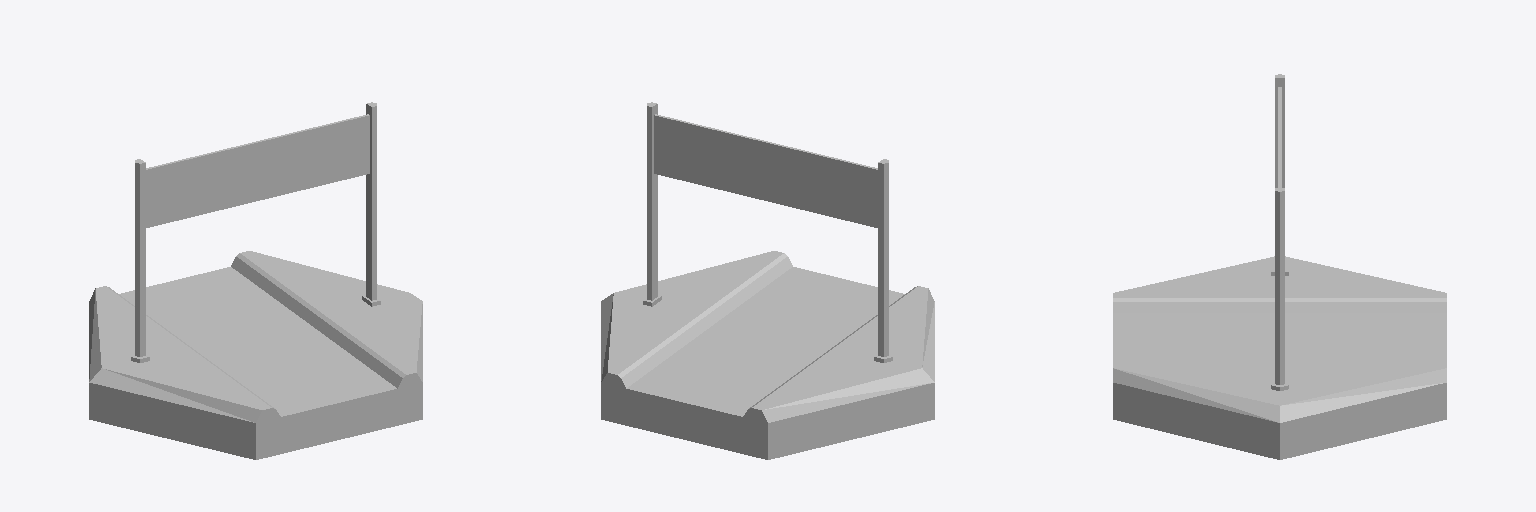
Rendered from flagge.obj.
The picture shows the model from 3 angles: view 1: azimuth 30°, elevation 25°; view 2: azimuth 150°, elevation 25°; view 3: azimuth 270°, elevation 25°; orthographic projection.
Parts seen in each view (by area): view 1: flagg tracks og; view 2: flagg tracks og; view 3: flagg tracks og.
Boxes of the visible parts, <box> form: flagg tracks og: <box>89,102,422,459</box>; flagg tracks og: <box>601,102,934,459</box>; flagg tracks og: <box>1113,74,1446,459</box>.
Bounding box in the file's own units: 2 × 1.41 × 1.73.